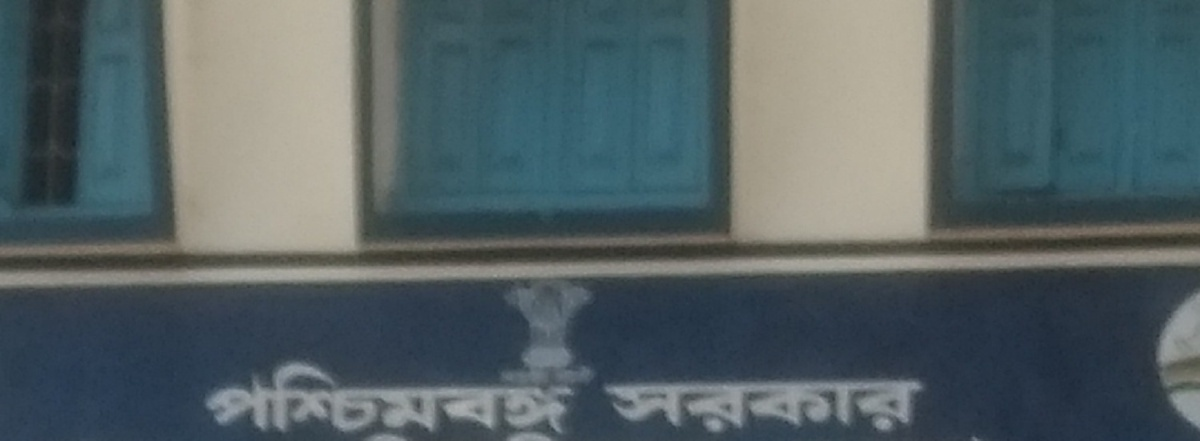text: (209, 358, 224, 440), (225, 358, 240, 440), (241, 358, 256, 440), (257, 358, 272, 440), (273, 358, 288, 440), (289, 358, 304, 440), (305, 358, 320, 440), (321, 358, 336, 440), (337, 358, 352, 440), (353, 358, 368, 440), (369, 358, 384, 440), (385, 358, 400, 440), (401, 358, 416, 440), (417, 358, 432, 440), (433, 358, 448, 440), (449, 358, 464, 440), (465, 358, 480, 440), (481, 358, 496, 440), (497, 358, 512, 440), (513, 358, 528, 440), (529, 358, 544, 440), (545, 358, 560, 440), (561, 358, 576, 440), (194, 358, 208, 440), (609, 379, 624, 439), (625, 379, 640, 439), (641, 379, 656, 439), (657, 379, 672, 439), (673, 379, 688, 439), (689, 379, 704, 439), (705, 379, 720, 439), (721, 379, 736, 439), (737, 379, 752, 439), (753, 379, 768, 439), (769, 379, 784, 439), (785, 379, 800, 439), (801, 379, 816, 439), (817, 379, 832, 439), (833, 379, 848, 439), (849, 379, 864, 439), (865, 379, 880, 439), (881, 379, 896, 439), (897, 379, 912, 439), (913, 379, 927, 439), (601, 379, 608, 439), (497, 368, 512, 390), (513, 368, 528, 390), (529, 368, 544, 390), (545, 368, 560, 390), (561, 368, 576, 390), (577, 368, 592, 390), (577, 358, 581, 440), (385, 427, 400, 440), (370, 427, 384, 440), (593, 368, 601, 390), (401, 427, 414, 440), (513, 429, 528, 440), (529, 429, 544, 440), (545, 429, 557, 440), (506, 429, 512, 440), (493, 368, 496, 390)
